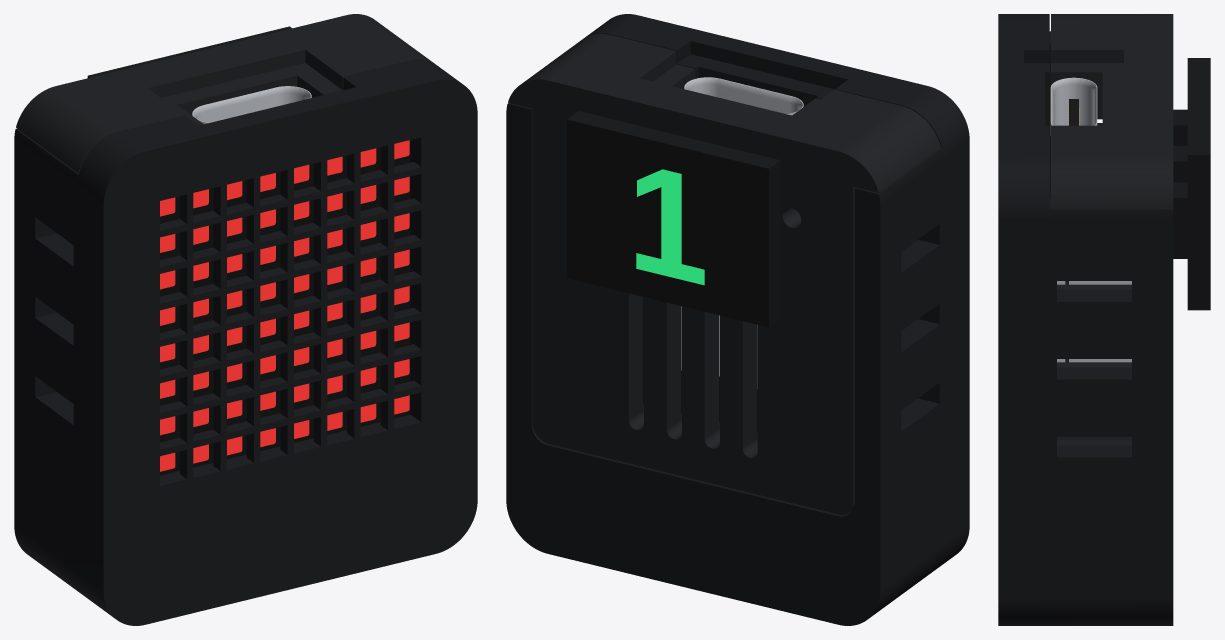
The model's file is cue-mini.glb.
3 renders of one model, left to right at view 1: azimuth 30°, elevation 25°; view 2: azimuth 150°, elevation 25°; view 3: azimuth 270°, elevation 25°, orthographic.
Parts seen in each view (by area): view 1: body, grid, plate, leds, board, usbc-shell, tag; view 2: body, plate, tag, tag-number, usbc-shell; view 3: body, plate, tag, usbc-shell, heatsink, board.
Boxes of the visible parts, <box> form: body: <box>14,60,477,625</box>; grid: <box>155,131,425,491</box>; plate: <box>16,14,435,172</box>; leds: <box>160,140,409,471</box>; board: <box>160,140,410,475</box>; usbc-shell: <box>192,86,311,124</box>; tag: <box>87,26,291,77</box>; body: <box>506,14,969,625</box>; plate: <box>508,33,940,514</box>; tag: <box>567,111,780,327</box>; tag-number: <box>636,169,704,285</box>; usbc-shell: <box>684,77,803,115</box>; body: <box>998,14,1173,625</box>; plate: <box>1049,14,1173,445</box>; tag: <box>1173,58,1210,310</box>; usbc-shell: <box>1050,77,1097,135</box>; heatsink: <box>1057,281,1131,362</box>; board: <box>1045,47,1050,197</box>.
Size of the model in its own units: 0.0296 by 0.0358 by 0.0149.
